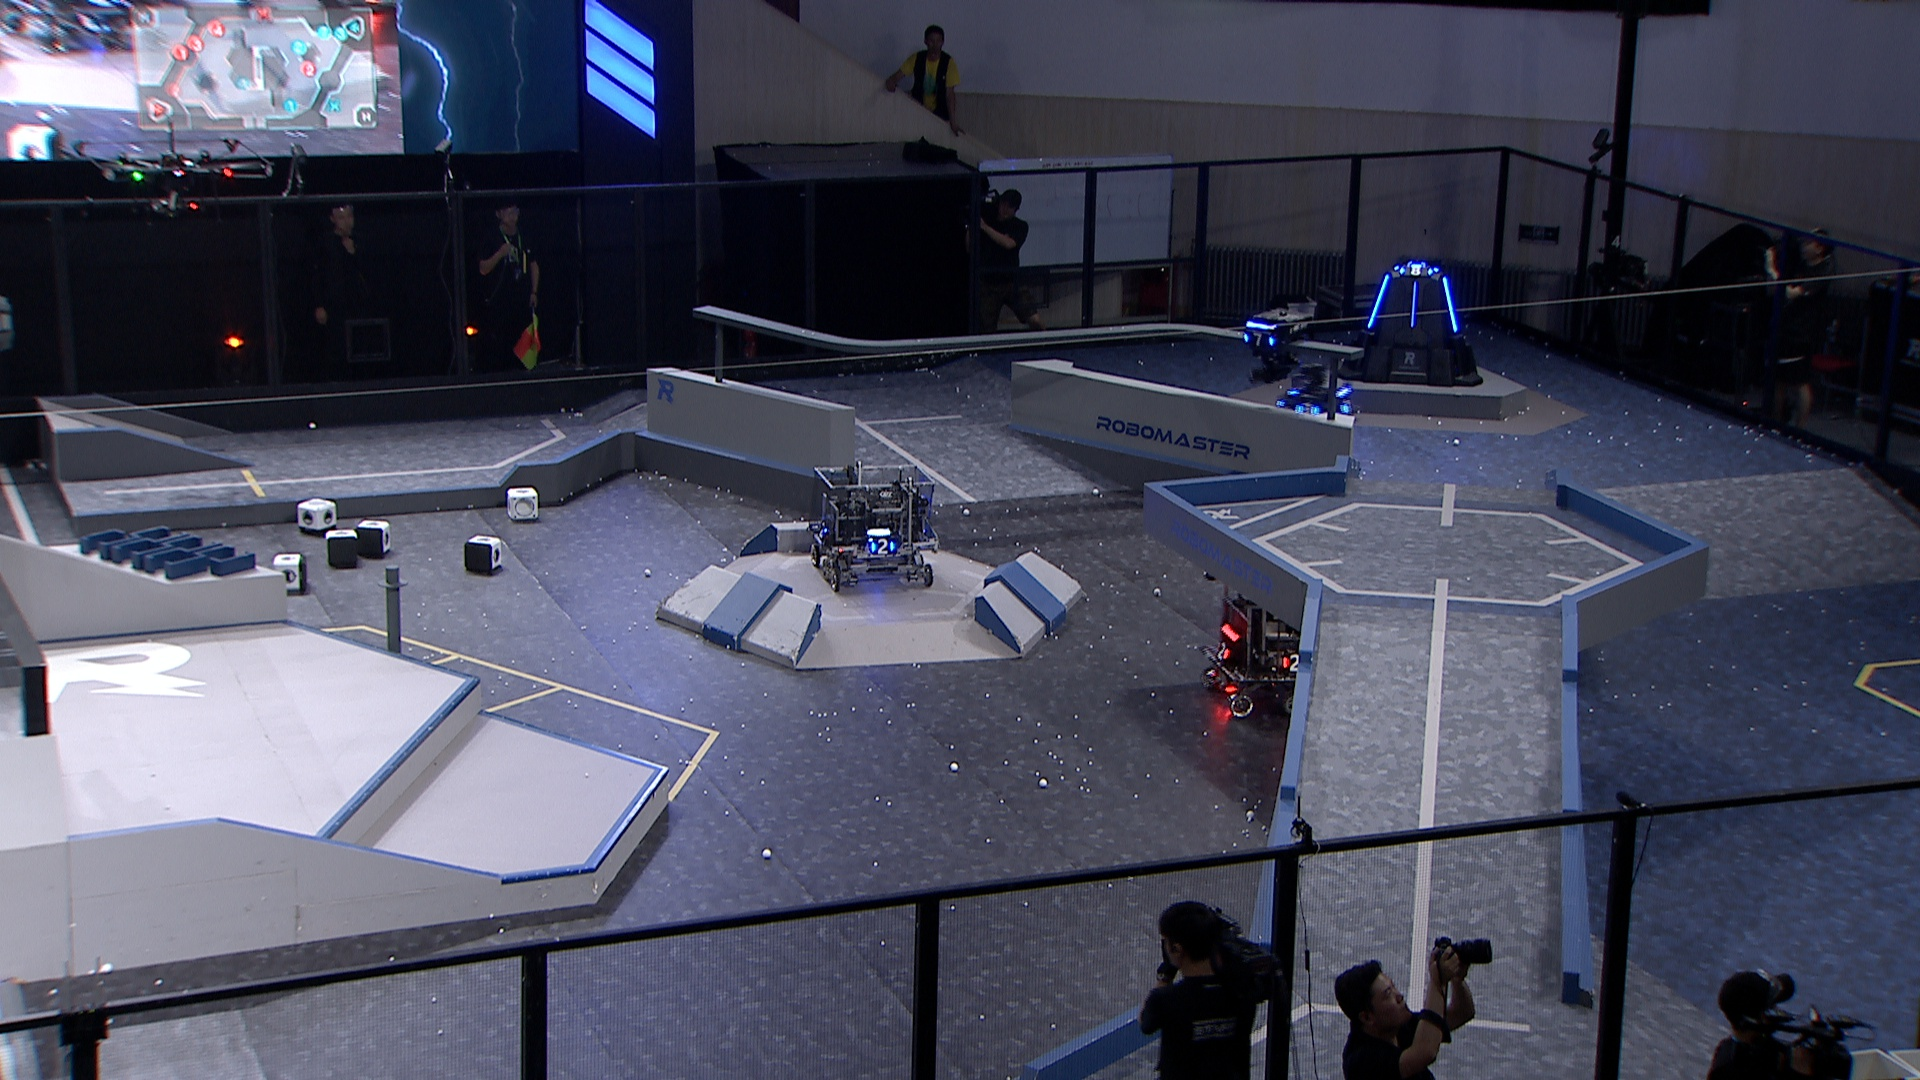armor: (1365, 273, 1394, 330), (1441, 273, 1462, 335), (1238, 330, 1276, 348), (1291, 400, 1325, 418), (1396, 262, 1439, 277), (1280, 651, 1305, 675), (866, 537, 895, 556), (1408, 281, 1420, 324), (1215, 641, 1233, 662), (814, 520, 831, 541), (1338, 398, 1356, 415)
base: (1329, 258, 1484, 386)
car: (1195, 564, 1354, 723), (806, 458, 949, 589), (1273, 363, 1362, 427)
watcher: (1233, 301, 1313, 385)
